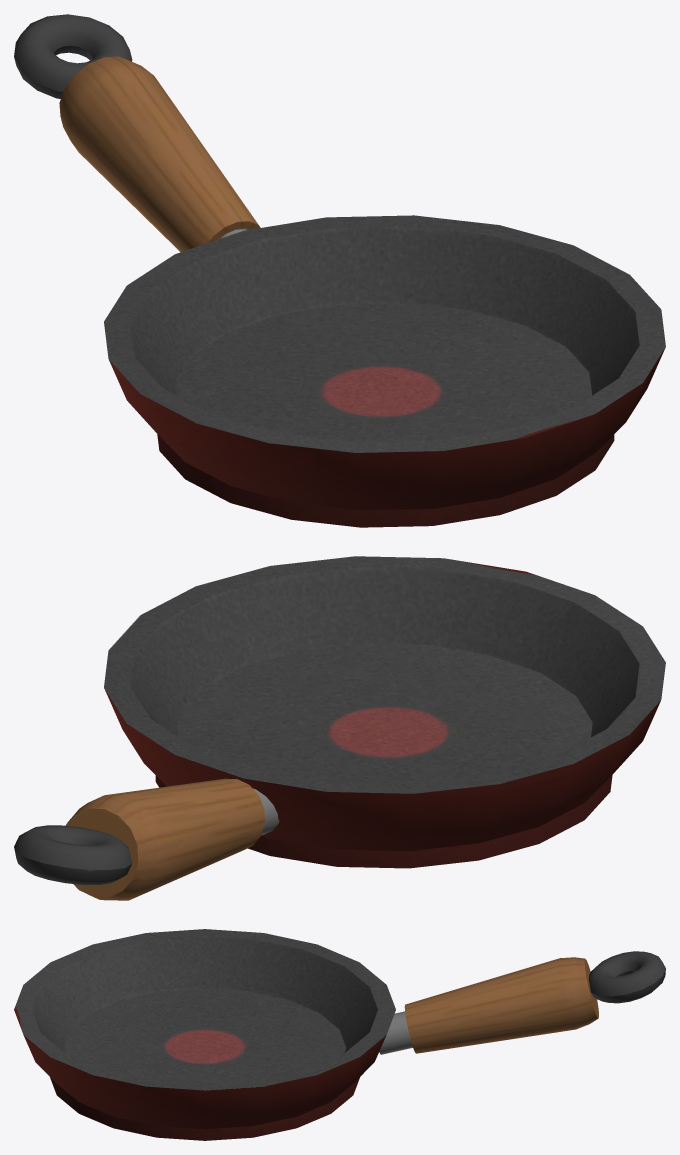
The model's file is FryingPan.glb.
3 renders of one model, top to bottom at view 1: azimuth 30°, elevation 25°; view 2: azimuth 150°, elevation 25°; view 3: azimuth 270°, elevation 25°, orthographic. The views are drawn at different scales.
Visible parts, largest first — view 1: FryingPan; view 2: FryingPan; view 3: FryingPan.
Boxes of the visible parts, bbox=[...] form: FryingPan: bbox=[14, 14, 665, 527]; FryingPan: bbox=[14, 556, 665, 900]; FryingPan: bbox=[14, 929, 665, 1140].
Size of the model in its own units: 0.8817 by 0.295 by 1.5.
1 material, 1 textured.
